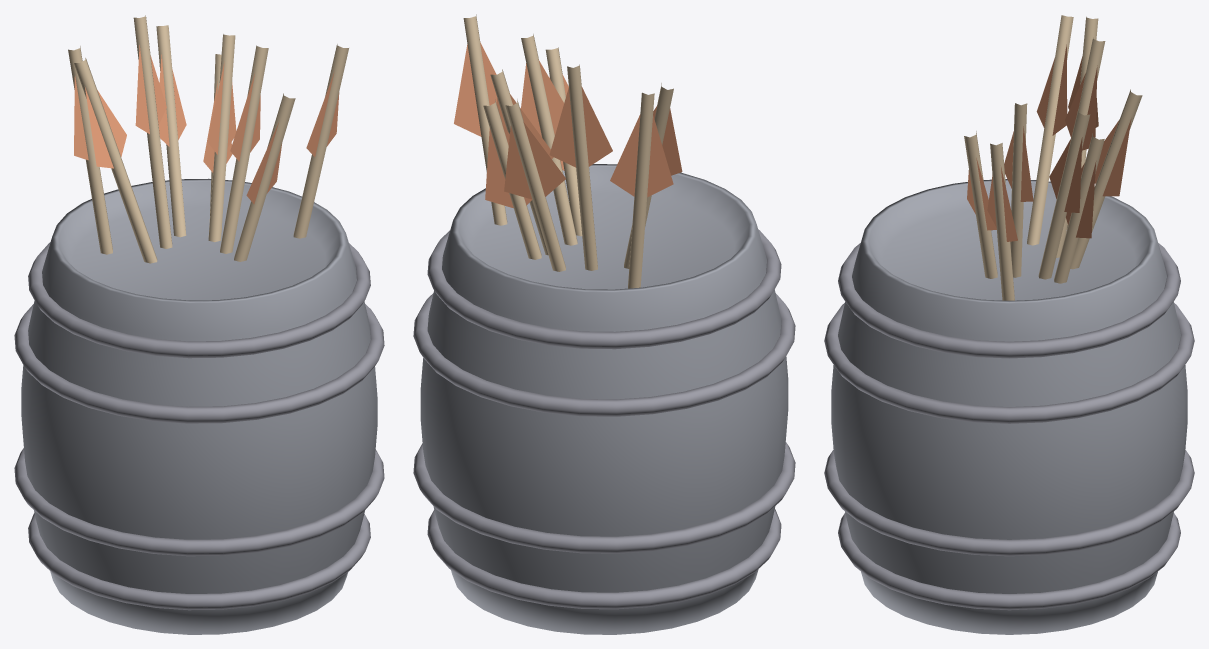
File: ArrowBarrel.glb
3 views of the same model, side by side, from view 1: azimuth 30°, elevation 25°; view 2: azimuth 150°, elevation 25°; view 3: azimuth 270°, elevation 25° (orthographic). The views are drawn at different scales.
Visible parts, largest first — view 1: Barrel, Hoops, Shafts, Feathers; view 2: Barrel, Hoops, Shafts, Feathers; view 3: Barrel, Hoops, Shafts, Feathers.
Part boxes in pixels (x1,y1,x2,y2): Barrel: (21, 178, 377, 634); Hoops: (14, 242, 384, 610); Shafts: (68, 15, 348, 263); Feathers: (74, 45, 339, 204); Barrel: (420, 164, 788, 634); Hoops: (413, 229, 795, 609); Shafts: (463, 14, 673, 288); Feathers: (454, 42, 682, 208); Barrel: (831, 179, 1187, 634); Hoops: (824, 243, 1194, 610); Shafts: (964, 15, 1142, 300); Feathers: (967, 44, 1131, 241).
Bounding box in the file's own units: 2.64 × 4.14 × 2.64.
